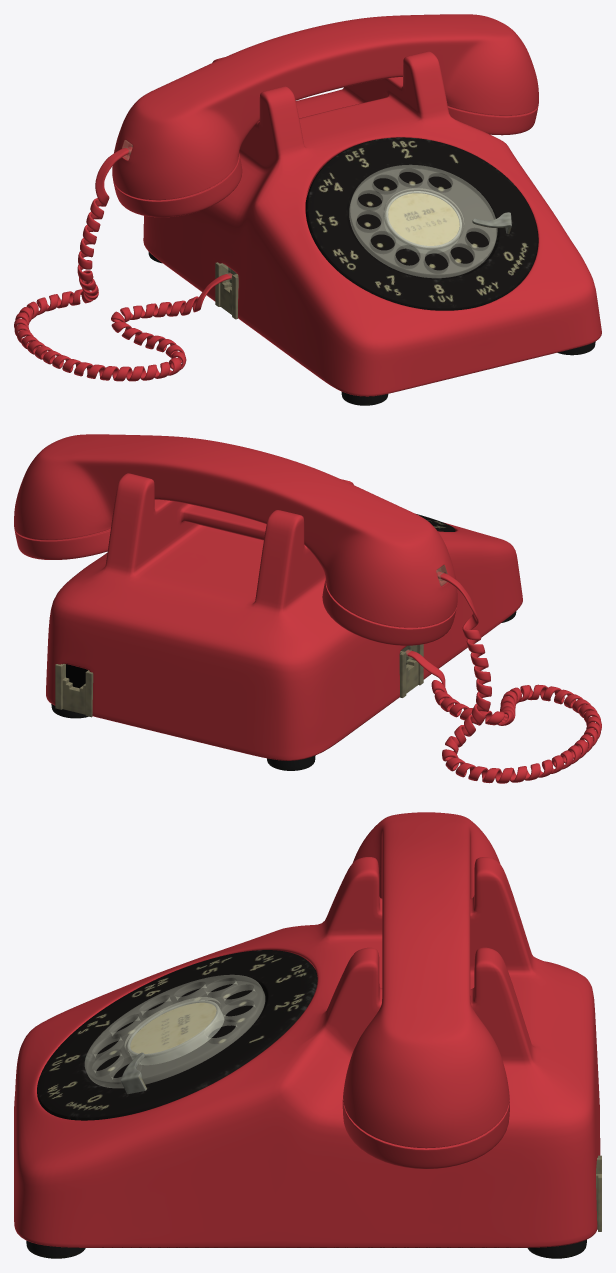
The model's file is phone.glb.
3 views of the same model, one above another, from view 1: azimuth 30°, elevation 25°; view 2: azimuth 150°, elevation 25°; view 3: azimuth 270°, elevation 25° (orthographic). The views are drawn at different scales.
Visible parts, largest first — view 1: Main_Body, Handset, Dial_Number_Plate, Rotary_Dial_Finger_Wheel, Coiled_Cord, Rotary_Dial_Card, Rotary_Dial_Center_Cap, Handset_Jack; view 2: Main_Body, Handset, Coiled_Cord, Line_Jack, Handset_Jack, Base_Feet_04; view 3: Main_Body, Handset, Dial_Number_Plate, Rotary_Dial_Finger_Wheel, Rotary_Dial_Card, Rotary_Dial_Center_Cap, Base_Feet_03, Rotary_Dial_Finger_Stop, Base_Feet_01.
Boxes of the visible parts, x1,y1,x2,y2 form: Main_Body: (143, 51, 601, 396); Handset: (112, 14, 538, 217); Dial_Number_Plate: (305, 137, 538, 310); Rotary_Dial_Finger_Wheel: (349, 165, 497, 277); Coiled_Cord: (14, 146, 232, 381); Rotary_Dial_Card: (388, 193, 459, 245); Rotary_Dial_Center_Cap: (384, 191, 461, 253); Handset_Jack: (215, 262, 238, 319); Main_Body: (46, 473, 522, 760); Handset: (14, 434, 457, 645); Coiled_Cord: (405, 571, 601, 783); Line_Jack: (55, 664, 93, 717); Handset_Jack: (399, 644, 423, 697); Base_Feet_04: (267, 755, 315, 770); Main_Body: (14, 857, 600, 1247); Handset: (342, 812, 509, 1168); Dial_Number_Plate: (37, 950, 317, 1120); Rotary_Dial_Finger_Wheel: (85, 975, 264, 1087); Rotary_Dial_Card: (130, 1002, 216, 1053); Rotary_Dial_Center_Cap: (127, 1000, 224, 1065); Base_Feet_03: (527, 1239, 586, 1258); Rotary_Dial_Finger_Stop: (120, 1052, 146, 1094); Base_Feet_01: (26, 1240, 85, 1258).
Bounding box in the file's own units: 0.2798 × 0.1188 × 0.2125.
4 materials, 3 textured.
